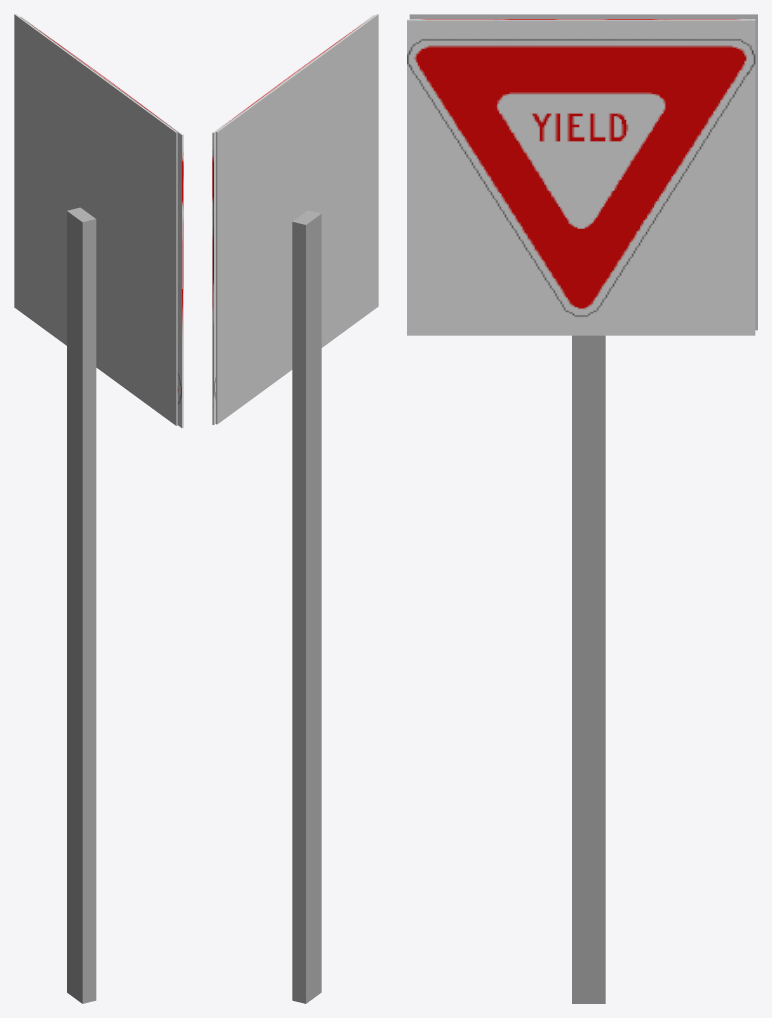
Rendered from yield.dae.
3 renders of one model, left to right at view 1: azimuth 30°, elevation 25°; view 2: azimuth 150°, elevation 25°; view 3: azimuth 270°, elevation 25°, orthographic. The views are drawn at different scales.
Parts seen in each view (by area): view 1: Cube_002, Cube_001, Cube; view 2: Cube_002, Cube_001, Cube; view 3: Cube, Cube_001, Cube_002.
Boxes of the visible parts, left/top/right/bottom form: Cube_002: left=14, top=14, right=177, bottom=425; Cube_001: left=67, top=207, right=96, bottom=1003; Cube: left=20, top=16, right=183, bottom=428; Cube_002: left=216, top=14, right=378, bottom=424; Cube_001: left=292, top=210, right=321, bottom=1003; Cube: left=212, top=14, right=374, bottom=424; Cube: left=407, top=19, right=755, bottom=335; Cube_001: left=572, top=335, right=605, bottom=1003; Cube_002: left=409, top=14, right=757, bottom=330.
Size of the model in its own units: 0.0799 by 0.9209 by 2.88.
